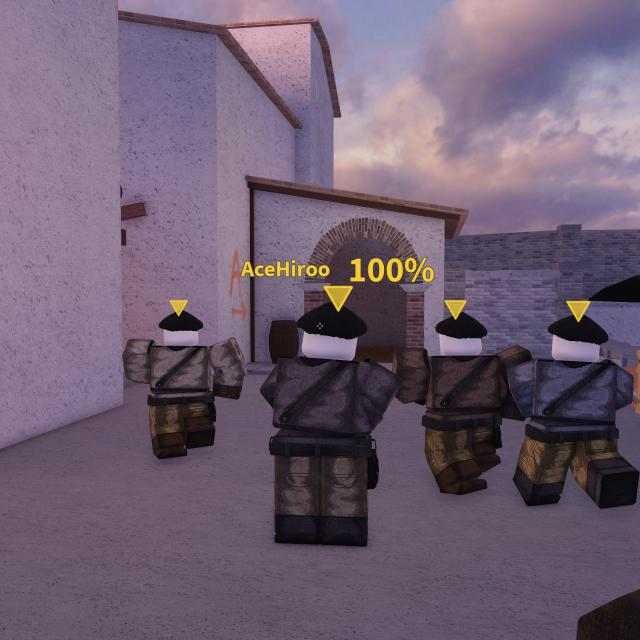Head: (296, 303, 368, 361), (550, 317, 607, 365), (436, 316, 486, 358), (160, 311, 202, 345)
Player: (258, 302, 398, 546), (395, 315, 534, 494), (510, 315, 640, 504), (122, 310, 246, 459)
